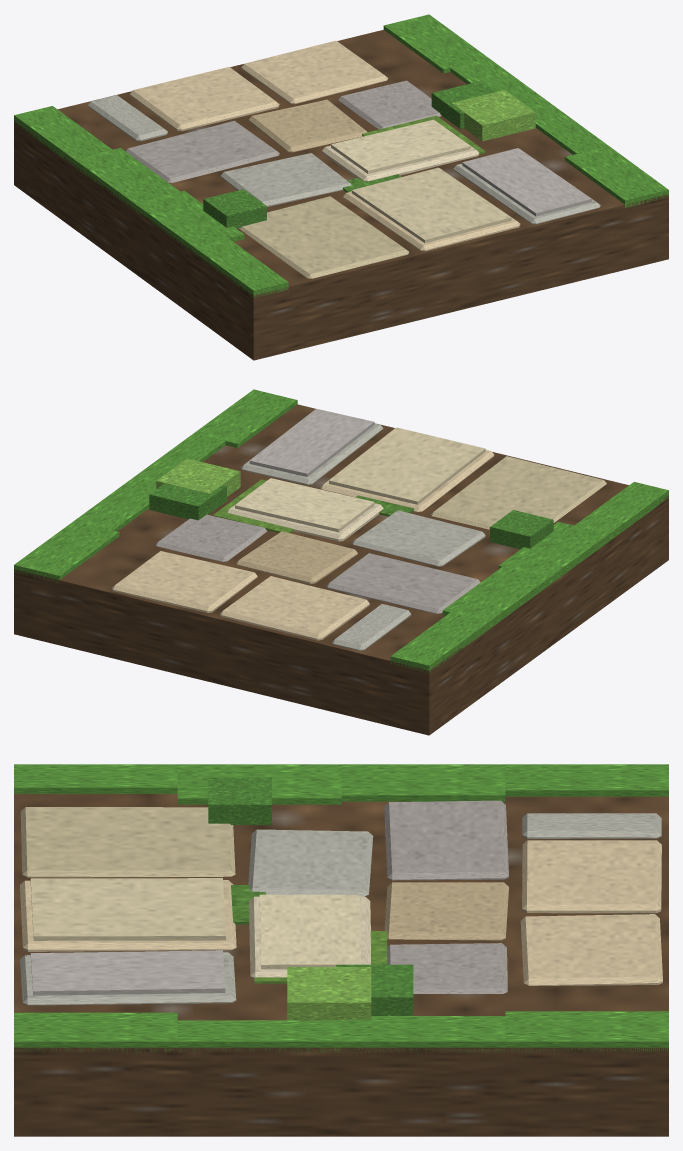
File: Chemin_Droit_A.obj
The picture shows the model from 3 angles, top to bottom: view 1: azimuth 30°, elevation 25°; view 2: azimuth 150°, elevation 25°; view 3: azimuth 270°, elevation 25°; orthographic projection. The views are drawn at different scales.
Parts seen in each view (by area): view 1: Chemin_Droit_A; view 2: Chemin_Droit_A; view 3: Chemin_Droit_A.
Part boxes in pixels (bbox=[...]): Chemin_Droit_A: bbox=[14, 14, 668, 360]; Chemin_Droit_A: bbox=[14, 389, 668, 735]; Chemin_Droit_A: bbox=[14, 764, 668, 1136].
Bounding box in the file's own units: 8 × 1.51 × 8.
1 material, 1 textured.
